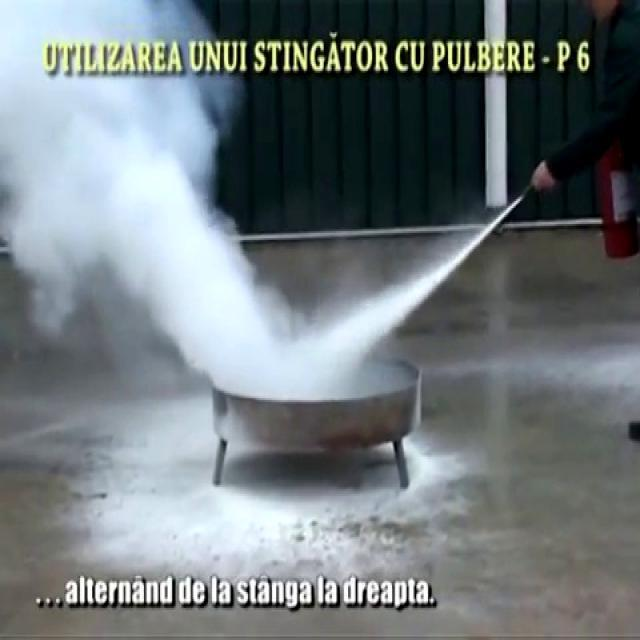Smoke: (0, 0, 366, 403)
